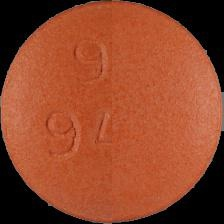63629-4108: (0, 0, 224, 224)
